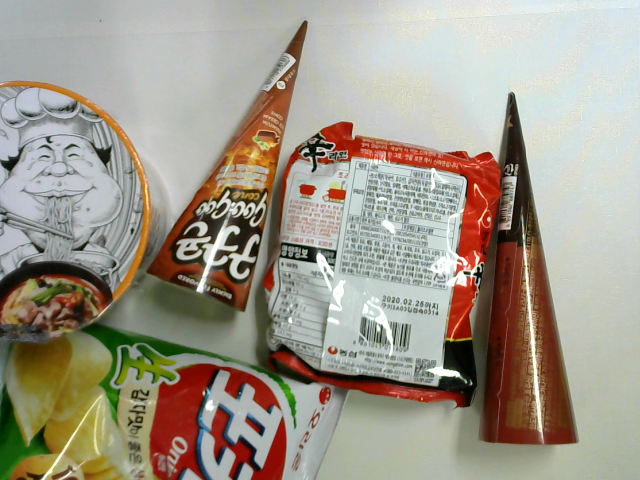GooGoo_Cone_CVS: (144, 17, 321, 318)
Hejangchan: (1, 73, 174, 348)
Pocachip_Onion: (2, 307, 352, 480)
Sinramen: (267, 115, 504, 414)
World_Cone_Choco: (477, 87, 590, 453)
